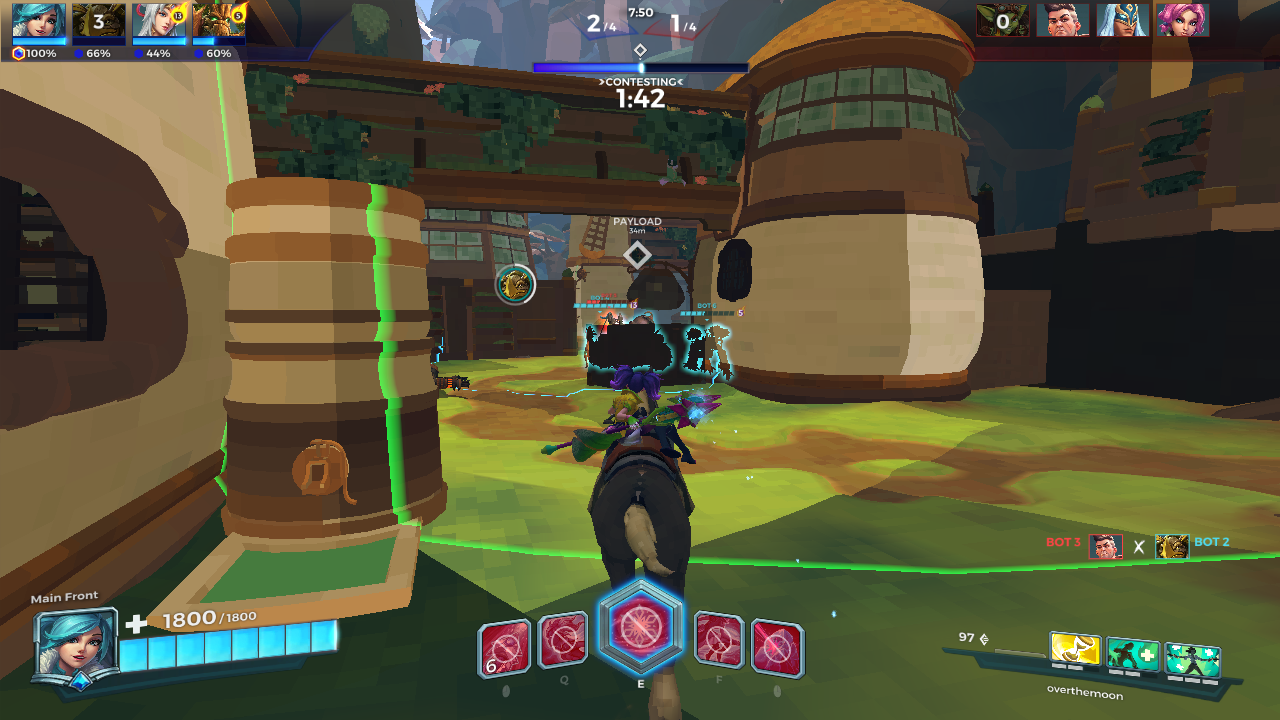model: (601, 305, 620, 343)
